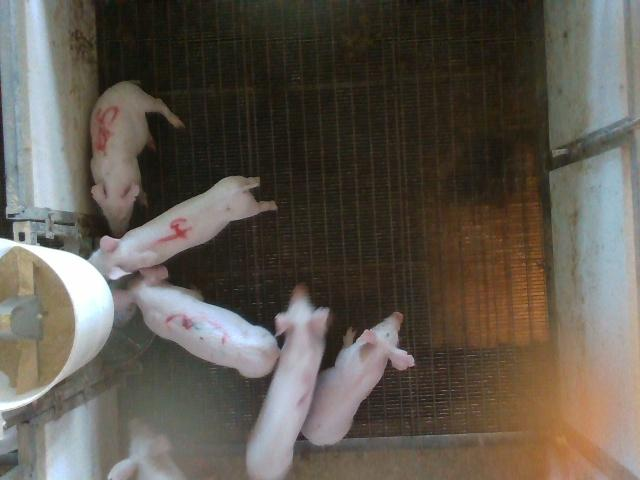pig-2: (246, 285, 329, 479)
pig-3: (112, 265, 279, 378)
pig-4: (89, 178, 276, 279)
pig-5: (90, 81, 184, 237)
